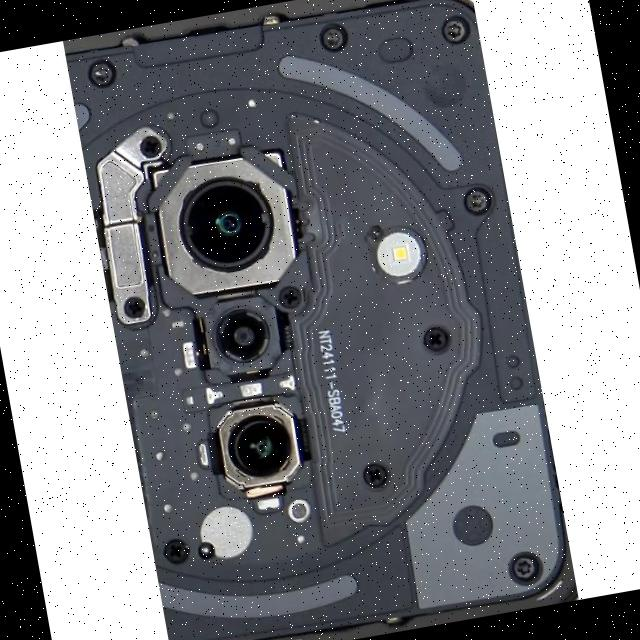Torx: (462, 186, 493, 217), (85, 57, 116, 88), (318, 22, 350, 52), (512, 556, 536, 578), (445, 22, 462, 38)
